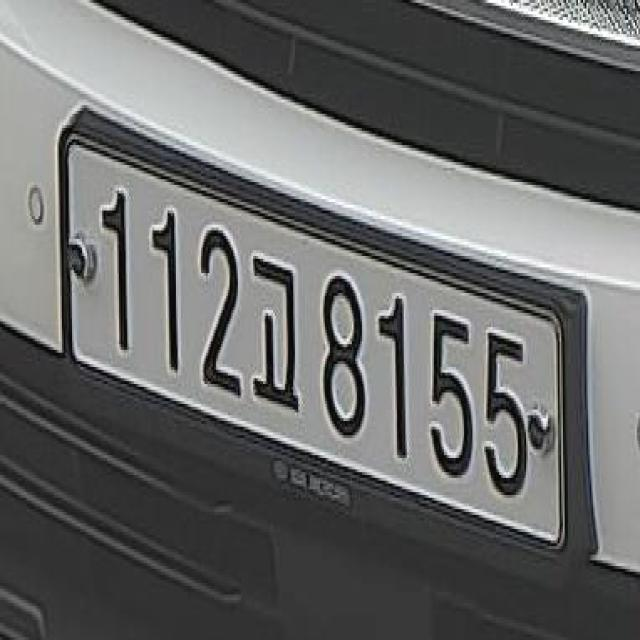illegal_plate: (53, 117, 571, 560)
